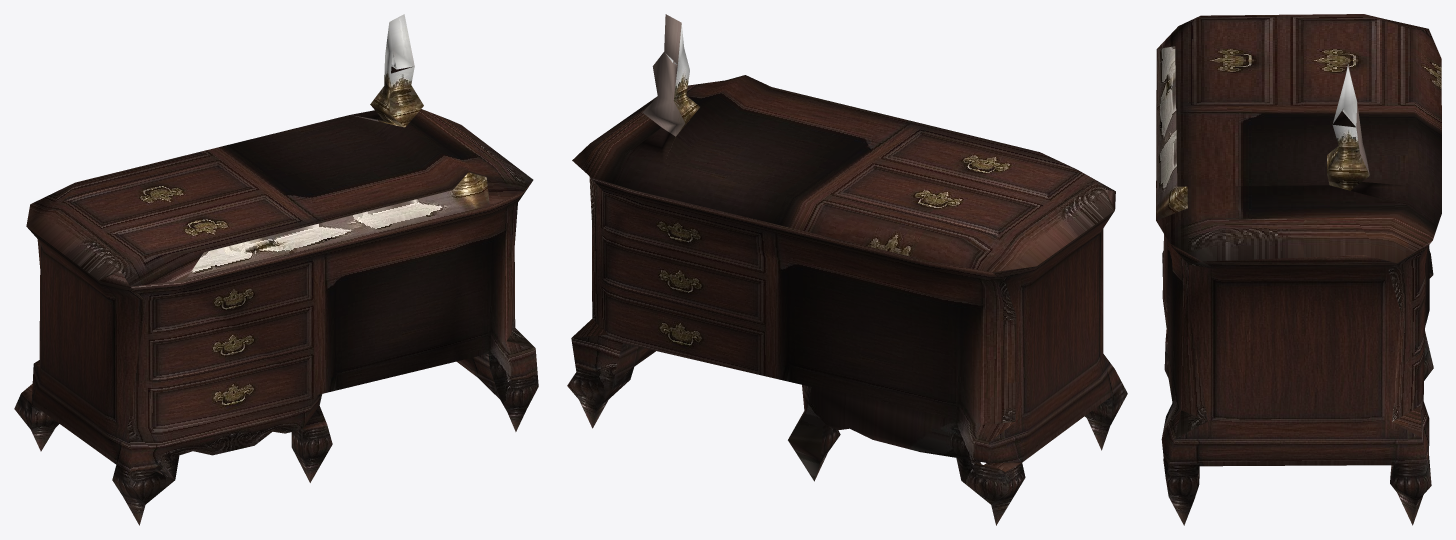
File: desk_med.glb
3 renders of one model, left to right at view 1: azimuth 30°, elevation 25°; view 2: azimuth 150°, elevation 25°; view 3: azimuth 270°, elevation 25°, orthographic. The views are drawn at different scales.
Parts seen in each view (by area): view 1: desk_med; view 2: desk_med; view 3: desk_med.
Part boxes in pixels (box(x1,y1,x2,y2)): desk_med: box(14, 14, 538, 525); desk_med: box(567, 14, 1127, 525); desk_med: box(1156, 14, 1441, 525).
Size of the model in its own units: 1.38 by 1.17 by 0.6898.
1 material, 1 textured.
